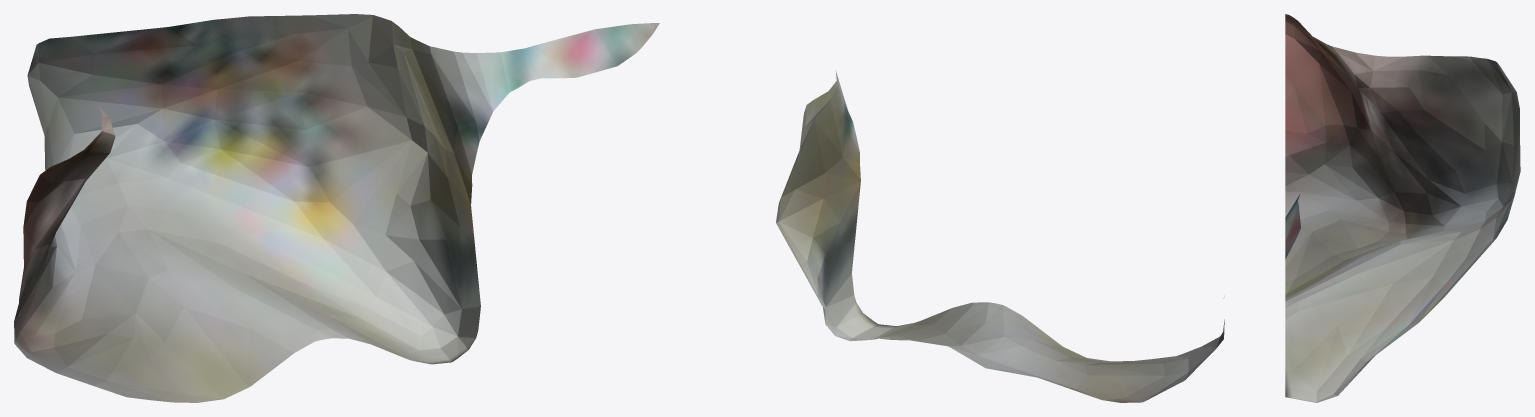
3 renders of one model, left to right at view 1: azimuth 30°, elevation 25°; view 2: azimuth 150°, elevation 25°; view 3: azimuth 270°, elevation 25°, orthographic. The views are drawn at different scales.
Size of the model in its own units: 63.17 by 28.27 by 26.28.
Materials: 1 (1 with a texture image).
